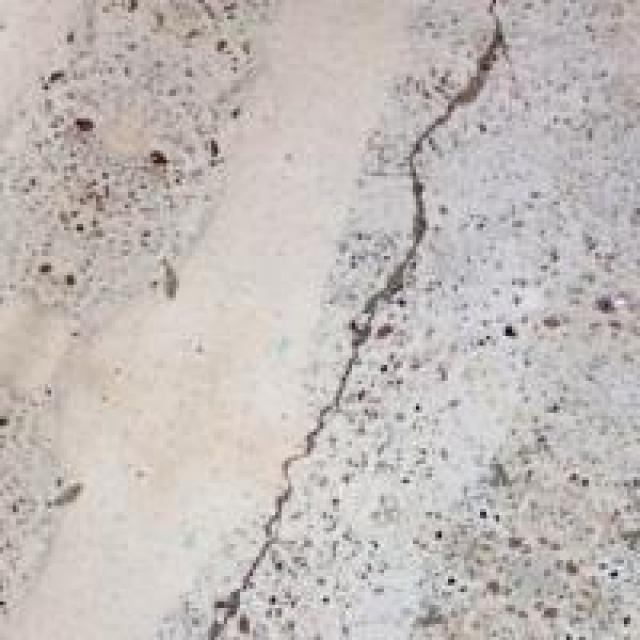Crack: (208, 0, 554, 637)
